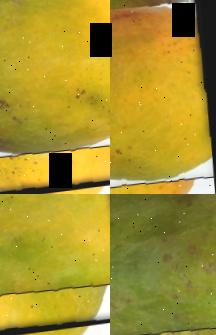PartiallyRipe: (0, 0, 110, 194), (110, 0, 216, 194), (0, 194, 110, 335)
Unripe: (110, 194, 216, 335)
